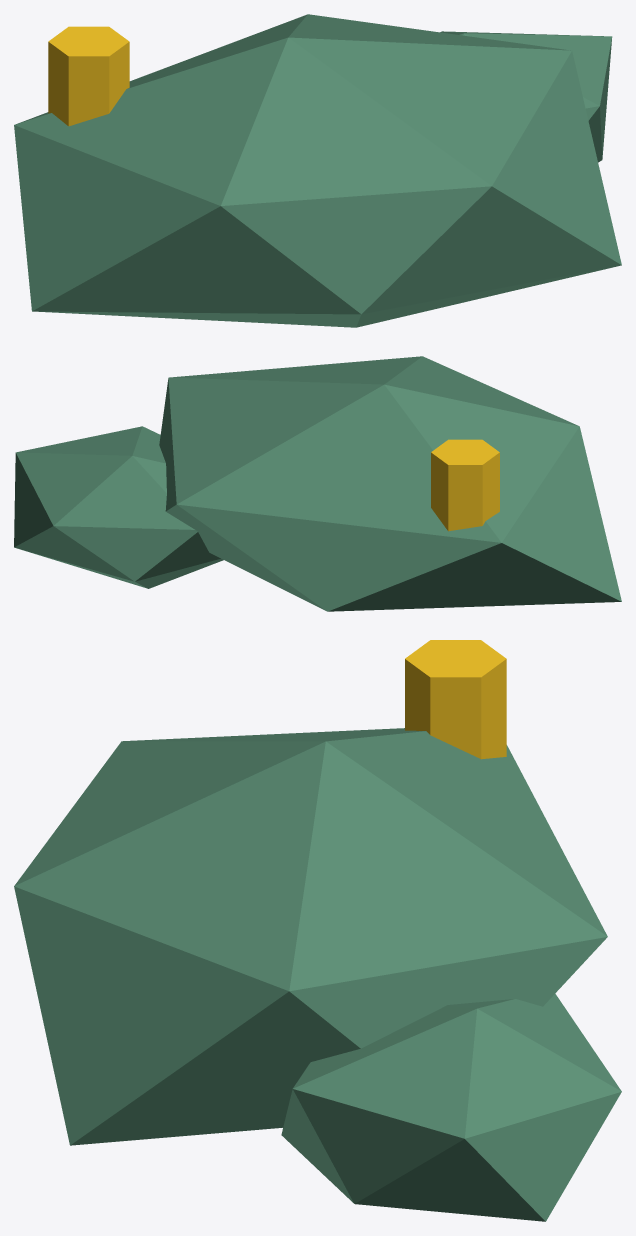
The model's file is fishing_net_pile.glb.
The picture shows the model from 3 angles, top to bottom: view 1: azimuth 30°, elevation 25°; view 2: azimuth 150°, elevation 25°; view 3: azimuth 270°, elevation 25°; orthographic projection. The views are drawn at different scales.
Visible parts, largest first — view 1: fishing_net_pile; view 2: fishing_net_pile; view 3: fishing_net_pile.
Boxes of the visible parts, x1,y1,x2,y2 form: fishing_net_pile: (14,14,621,327); fishing_net_pile: (14,356,621,611); fishing_net_pile: (14,640,621,1221).
Size of the model in its own units: 1.84 by 0.7574 by 1.19.
